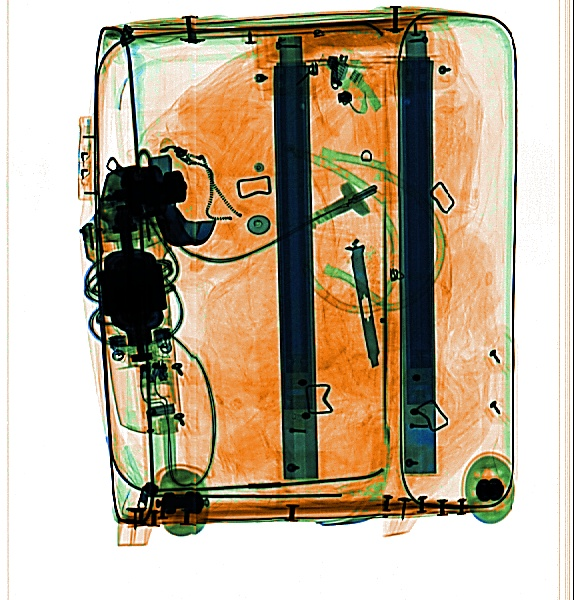grinder: (75, 147, 224, 451)
